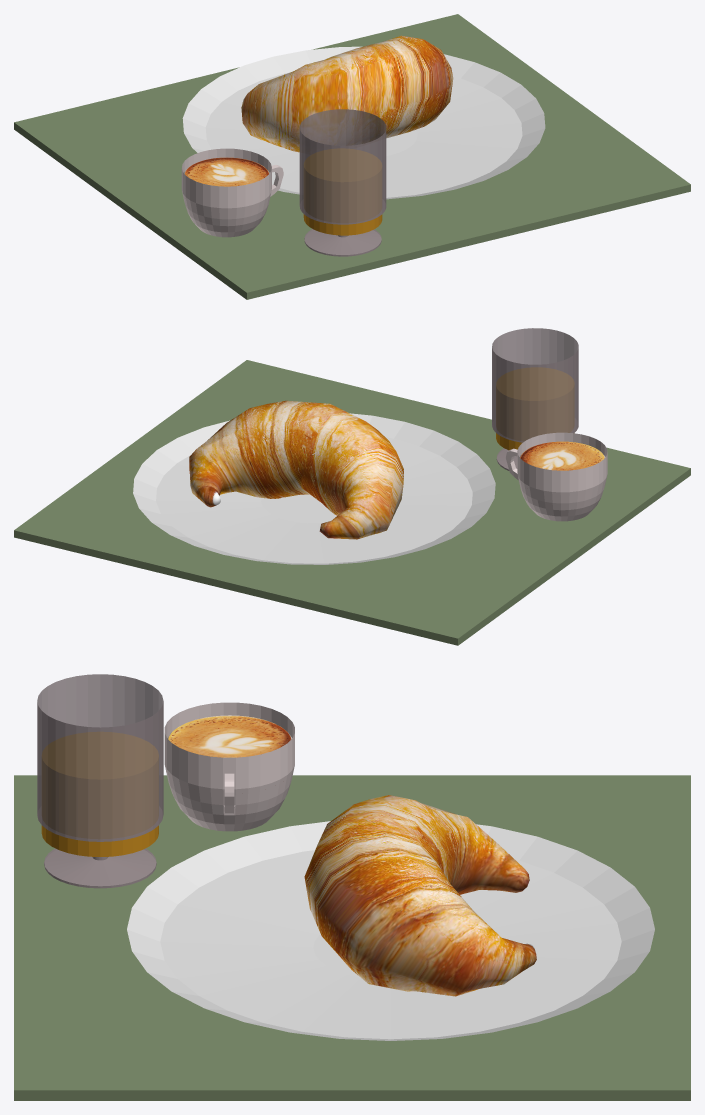
Rendered from Manu2Francia.glb.
3 renders of one model, top to bottom at view 1: azimuth 30°, elevation 25°; view 2: azimuth 150°, elevation 25°; view 3: azimuth 270°, elevation 25°, orthographic. The views are drawn at different scales.
Visible parts, largest first — view 1: Cube, Cylinder, Cylinder.001, Cylinder.010, Cylinder.011, Circle, Cylinder.012; view 2: Cube, Cylinder, Cylinder.001, Cylinder.010, Circle, Cylinder.011, Cylinder.012; view 3: Cube, Cylinder, Cylinder.001, Cylinder.010, Cylinder.011, Circle, Cylinder.012.
Part boxes in pixels (x1,y1,x2,y2): Cube: (14,14,690,299); Cylinder: (182,46,545,199); Cylinder.001: (241,35,453,152); Cylinder.010: (299,109,386,256); Cylinder.011: (303,149,382,235); Circle: (181,148,283,237); Cylinder.012: (184,157,269,186); Cube: (14,360,690,645); Cylinder: (133,413,495,564); Cylinder.001: (189,400,403,539); Cylinder.010: (492,328,578,470); Circle: (506,432,607,521); Cylinder.011: (496,368,573,450); Cylinder.012: (519,441,605,470); Cube: (14,775,690,1100); Cylinder: (127,821,654,1040); Cylinder.001: (304,795,536,996); Cylinder.010: (37,674,163,888); Cylinder.011: (41,732,158,856); Circle: (164,702,294,831); Cylinder.012: (167,715,292,757).
Bounding box in the file's own units: 22.67 × 5.85 × 20.59.
Materials: 8 (3 with a texture image).
